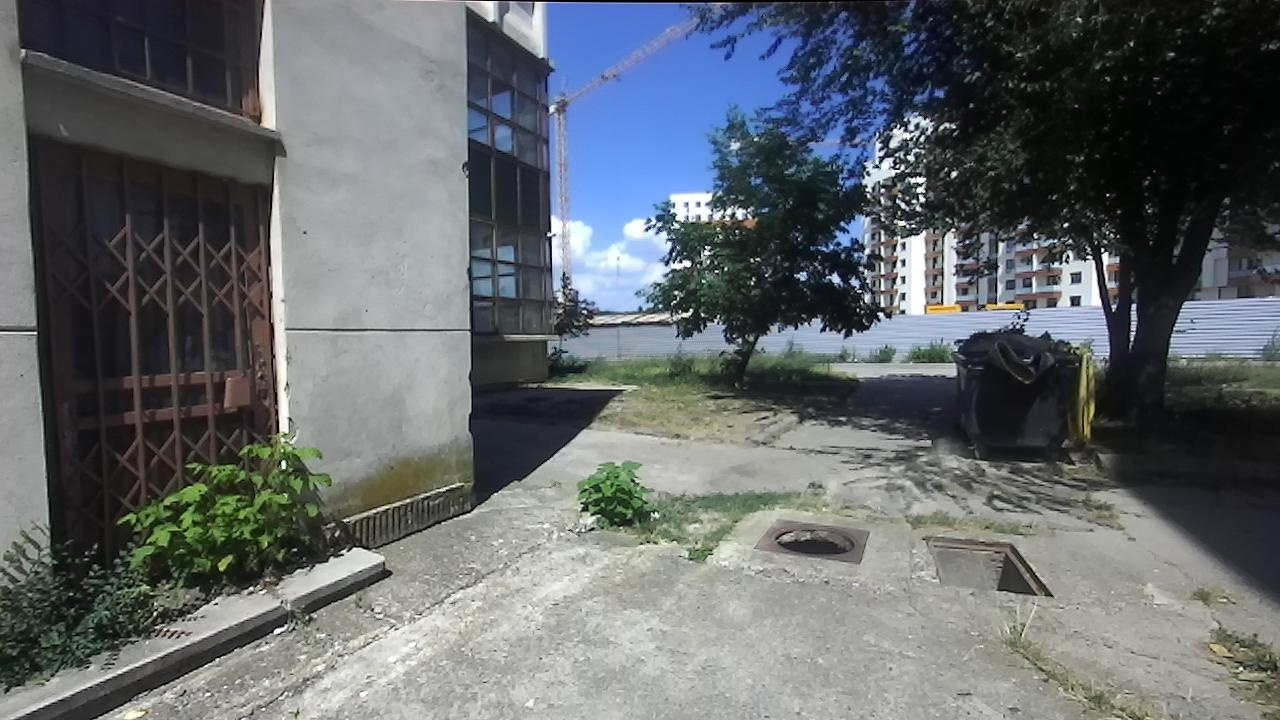drain: (919, 533, 1056, 601), (765, 526, 860, 560)
